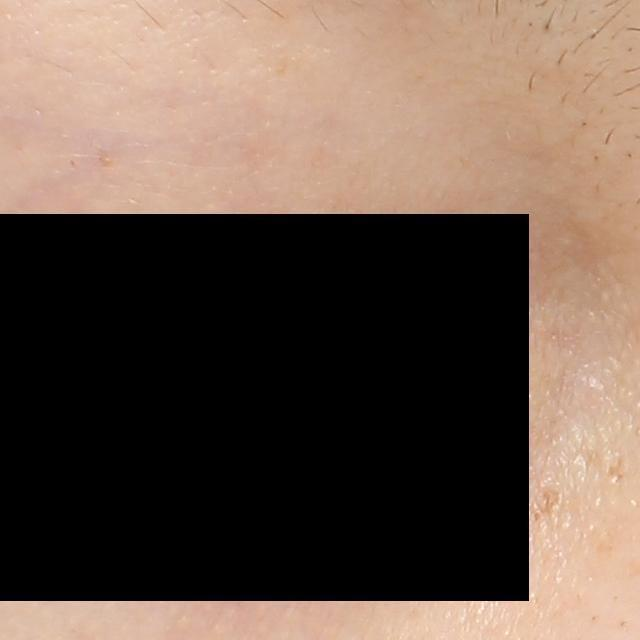melasma: (527, 486, 565, 529), (605, 455, 624, 483)
